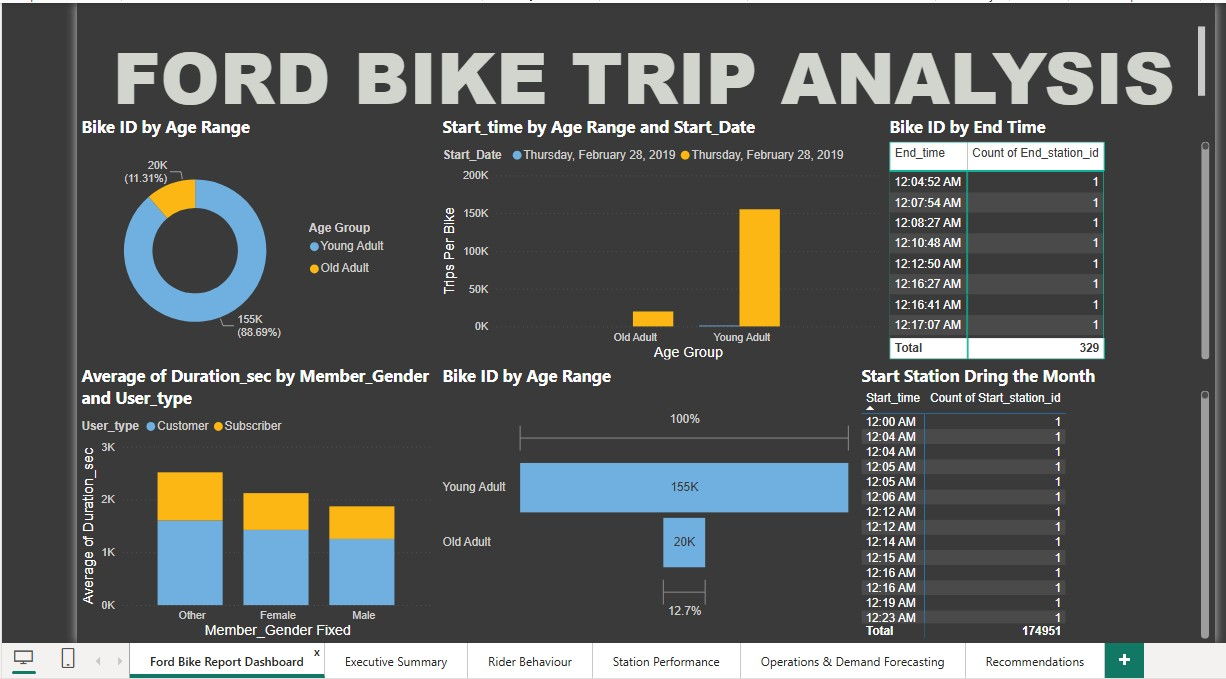

The page's visual inventory and layout, read from the dashboard file:
{"tool":"powerbi","page":{"name":"Ford Bike Report Dashboard","canvas":[1280,720],"ordinal":0},"visuals":[{"type":"donutChart","title":"Bike ID by Age Range","fields":{"Category":["Sheet1.Age Group"],"Y":["Sheet1.Bike_ID_update"]},"box":[0,125.9,359.8,280.2],"z":0},{"type":"lineStackedColumnComboChart","title":"Average of Duration_sec by Member_Gender and User_type","fields":{"Category":["Sheet1.Member_Gender Fixed"],"Series":["Sheet1.User_type"],"Y":["Avg(Sheet1.Duration_sec)"]},"box":[0,406.1,404.8,313.6],"z":1000},{"type":"funnel","title":"Bike  ID by Age Range","fields":{"Y":["Sheet1.Trips Per Bike"],"Category":["Sheet1.Age Group"]},"box":[406.1,406.1,471.6,313.6],"z":2000},{"type":"clusteredColumnChart","title":"Start_time by Age Range and Start_Date ","fields":{"Series":["Sheet1.Start_Date "],"Category":["Sheet1.Age Group"],"Y":["Sheet1.Trips Per Bike"]},"box":[406.1,125.9,502.5,280.2],"z":3000},{"type":"pivotTable","title":"Bike  ID by End Time ","fields":{"Rows":["Sheet1.End_time"],"Values":["Count(Sheet1.End_station_id)"]},"box":[908.6,125.9,370.1,280.2],"z":4000},{"type":"pivotTable","title":"Start Station Dring the Month","fields":{"Values":["CountNonNull(Sheet1.Start_station_id)"],"Rows":["Sheet1.Start_time"]},"box":[877.8,406.1,401,313.6],"z":5000},{"type":"textbox","box":[10.7,21.3,1264,103.9],"z":6000}]}

Visuals, with their boxes on the page's 1280x720 design canvas (x1, y1, x2, y2). These are canvas units, not pixel positions in the 1226x679 screenshot, which may show the page scaled, cropped or inside an application window:
"Bike ID by Age Range" donutChart: x1=0, y1=126, x2=360, y2=406
"Average of Duration_sec by Member_Gender and User_type" lineStackedColumnComboChart: x1=0, y1=406, x2=405, y2=720
"Bike  ID by Age Range" funnel: x1=406, y1=406, x2=878, y2=720
"Start_time by Age Range and Start_Date " clusteredColumnChart: x1=406, y1=126, x2=909, y2=406
"Bike  ID by End Time " pivotTable: x1=909, y1=126, x2=1279, y2=406
"Start Station Dring the Month" pivotTable: x1=878, y1=406, x2=1279, y2=720
textbox: x1=11, y1=21, x2=1275, y2=125
